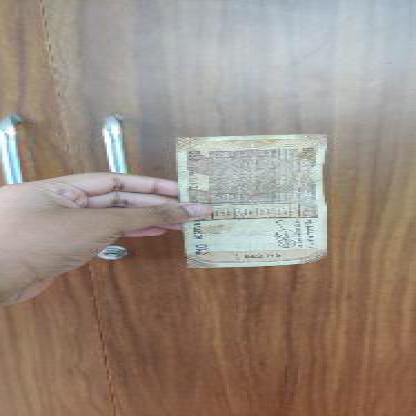New10Back: (173, 138, 328, 264)
